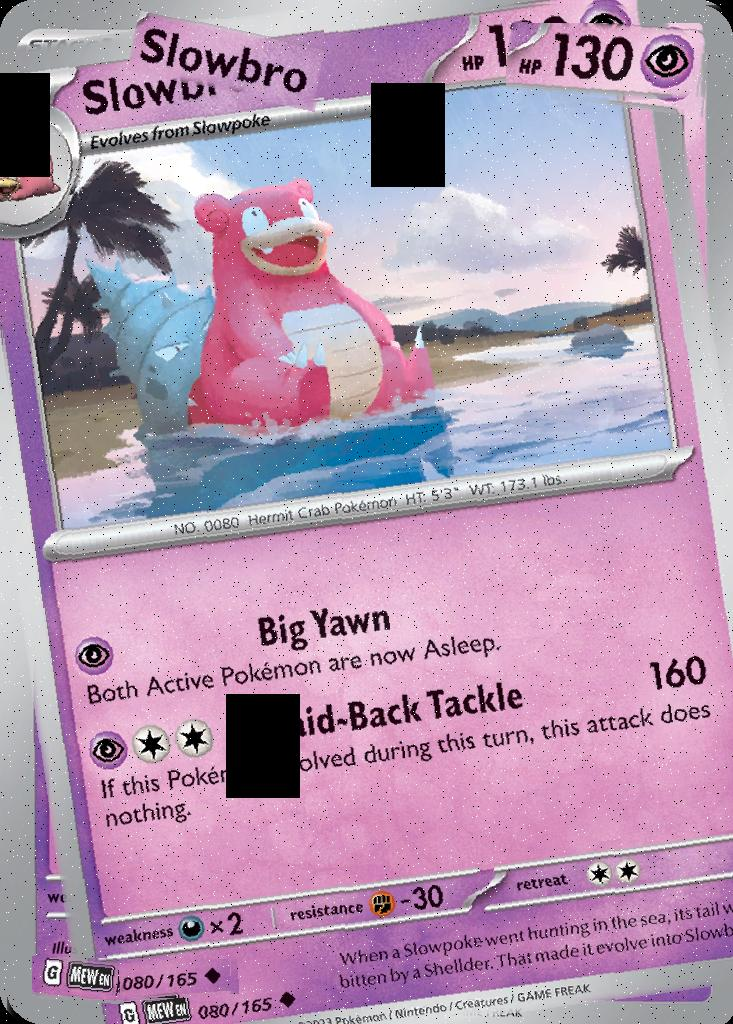card: (0, 0, 733, 1024)
hp: (507, 23, 709, 107)
name: (131, 19, 325, 101)
set num: (120, 960, 232, 999)
set symbol: (33, 957, 120, 1002)
